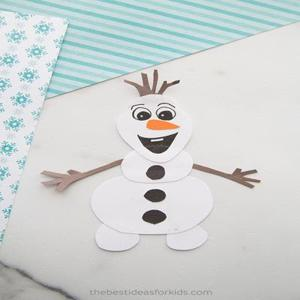olaf: (67, 67, 247, 250)
